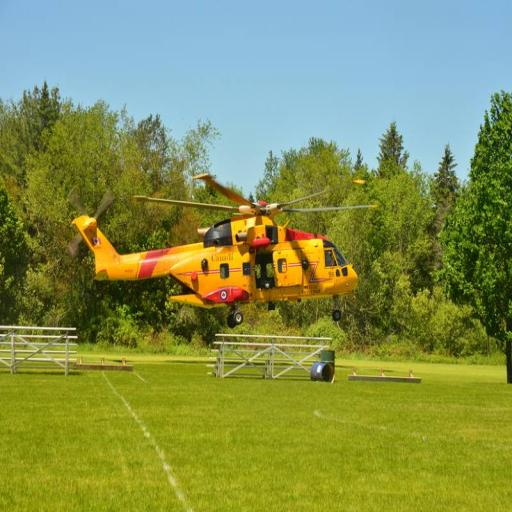helicopter: (63, 159, 383, 333)
